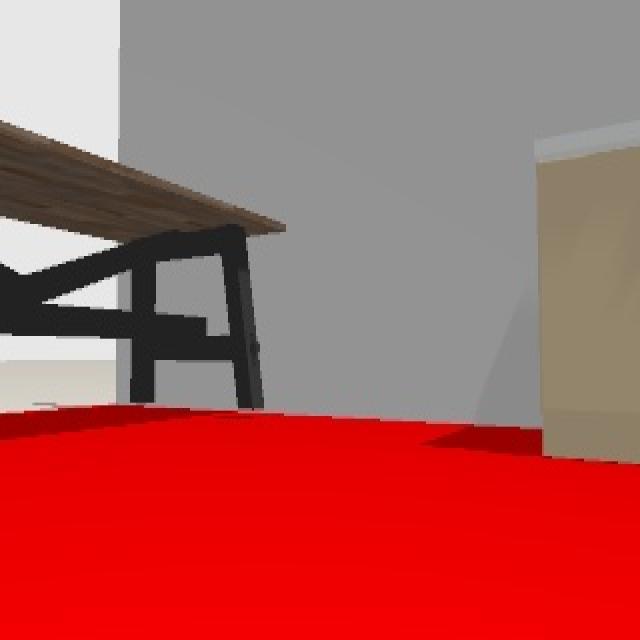dining: (2, 119, 286, 418)
